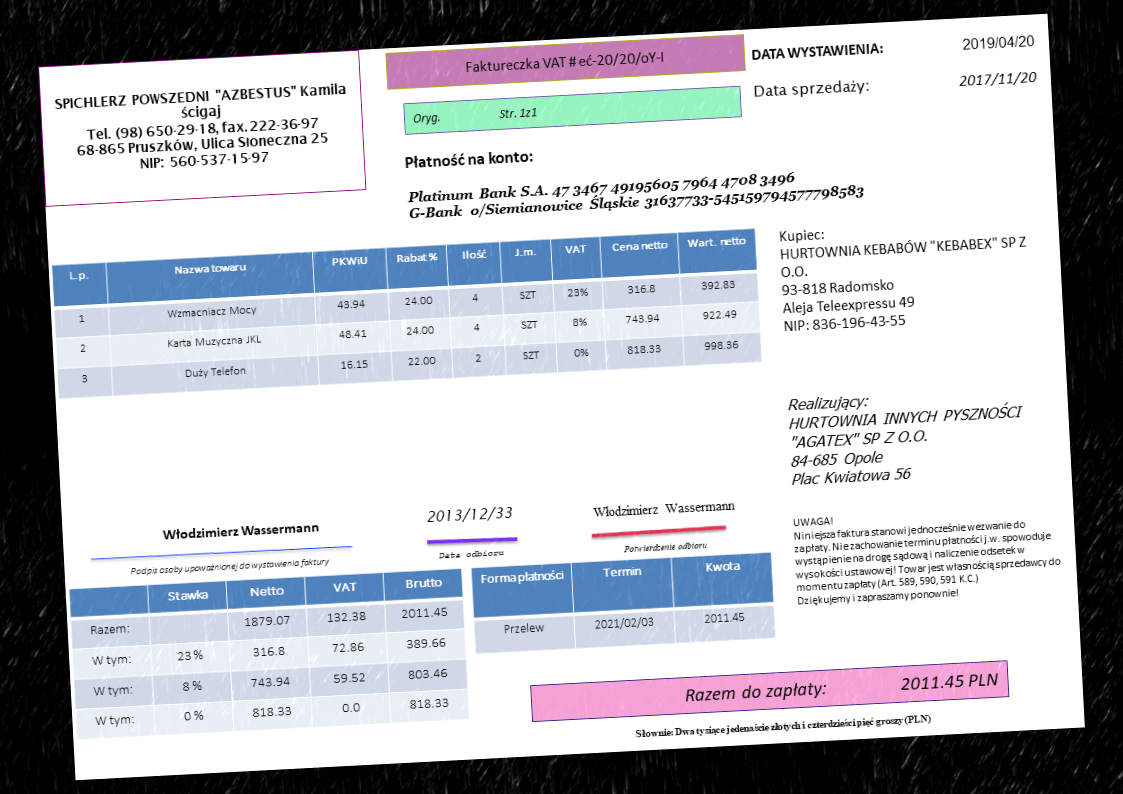Table: (49, 225, 765, 401), (67, 566, 472, 742), (469, 550, 779, 656)
TextBox: (776, 215, 1033, 337), (404, 163, 870, 227), (51, 79, 354, 177), (790, 501, 1067, 608), (783, 381, 1029, 492), (680, 667, 1002, 709), (631, 709, 935, 743), (460, 46, 666, 77), (126, 552, 332, 579), (159, 515, 323, 545), (402, 145, 536, 175), (750, 36, 887, 65), (588, 495, 739, 521), (752, 76, 872, 102), (411, 103, 540, 127), (423, 501, 515, 527), (955, 67, 1039, 91), (959, 30, 1038, 53), (620, 538, 710, 556), (433, 543, 508, 563)
